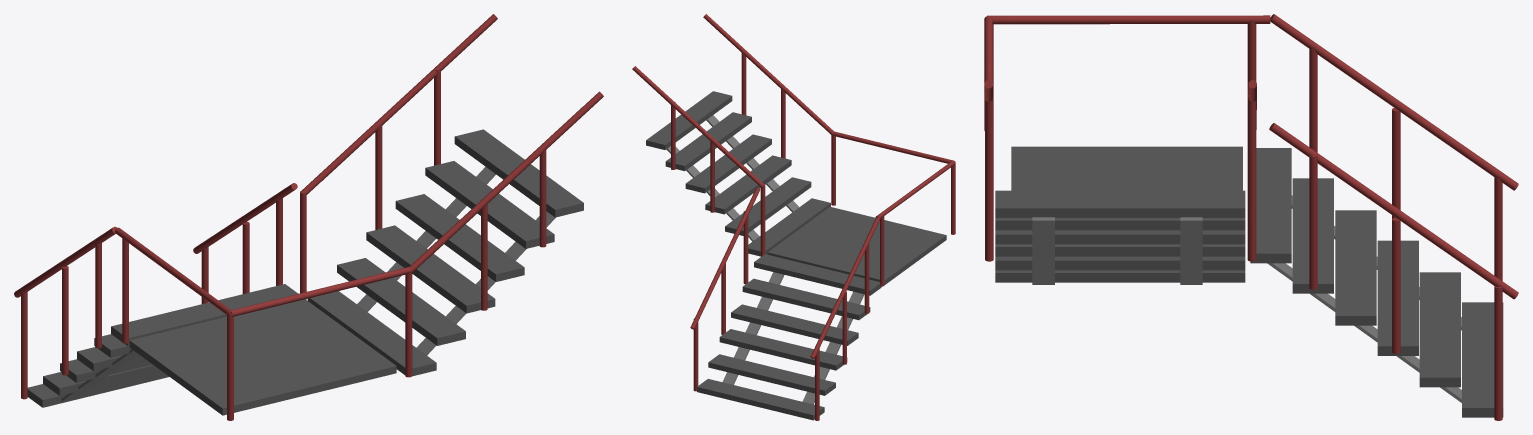
Rendered from stairsForCatwalk.fbx.
The picture shows the model from 3 angles, left to right: view 1: azimuth 30°, elevation 25°; view 2: azimuth 150°, elevation 25°; view 3: azimuth 270°, elevation 25°; orthographic projection. The views are drawn at different scales.
Visible parts, largest first — view 1: polySurface178; view 2: polySurface178; view 3: polySurface178.
Part boxes in pixels (bbox=[...]): polySurface178: bbox=[14, 14, 603, 420]; polySurface178: bbox=[632, 14, 955, 420]; polySurface178: bbox=[984, 14, 1518, 420].
Bounding box in the file's own units: 5.51 × 5.13 × 5.44.
